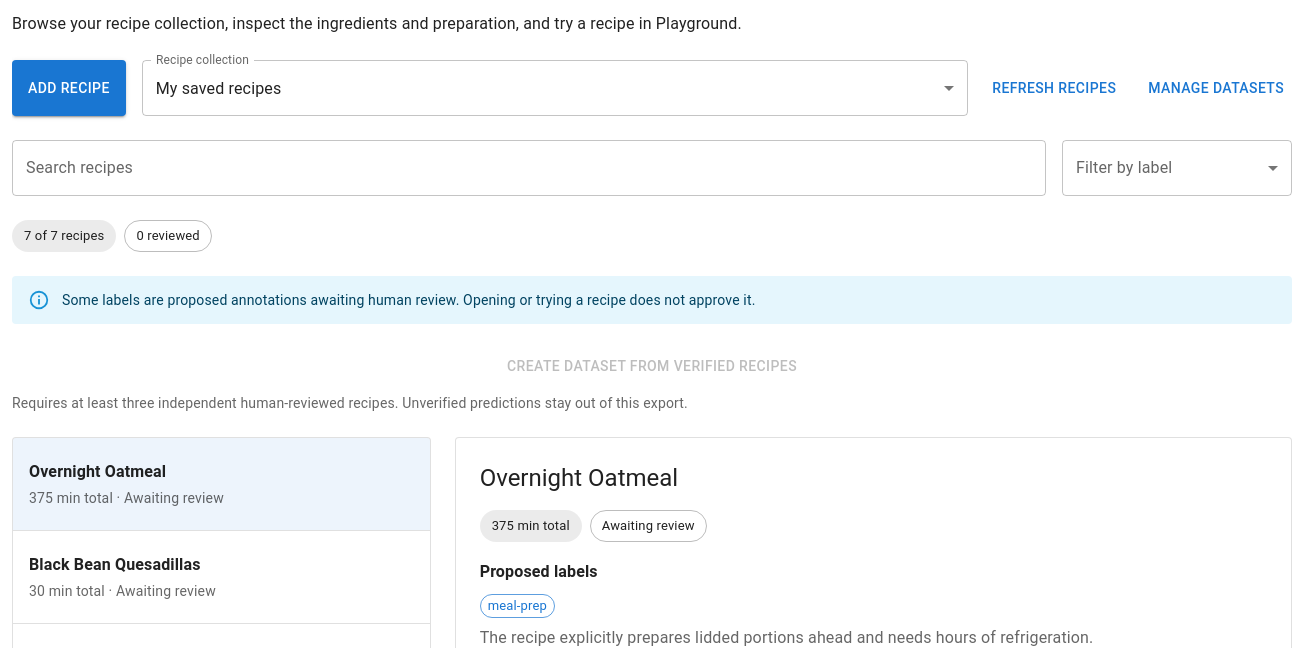
Test: browses saved recipes, searches ingredients and shows an explicit empty state
Expected: the text "7 of 7 recipes" is shown, x1=24 y1=228 x2=104 y2=243
Step 1. Type "ricotta" into the field labelled "Search recipes" → {"x": 529, "y": 168}, box x1=12 y1=140 x2=1046 y2=196
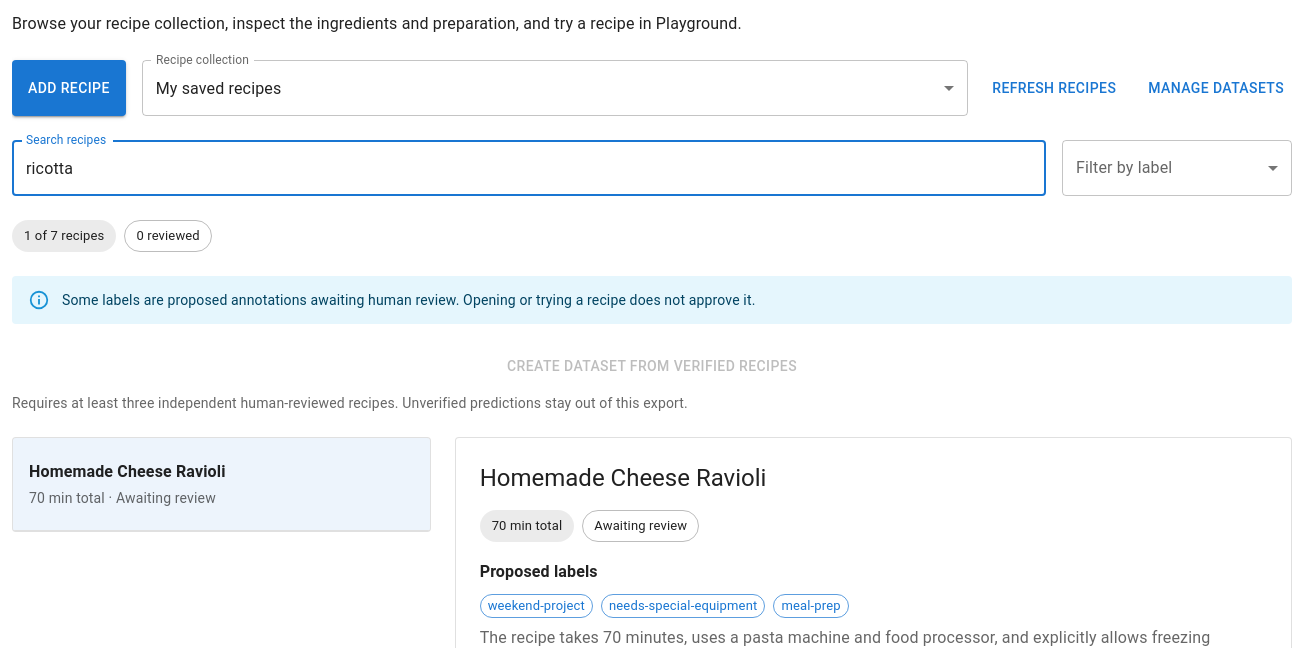
Now the text "1 of 7 recipes" is shown, box x1=24 y1=228 x2=104 y2=243
Now the heading "Homemade Cheese Ravioli" is shown, box x1=480 y1=464 x2=766 y2=492
Step 2. Replace the text in the field labelled "Search recipes" with "no such ingredient" → {"x": 529, "y": 168}, box x1=12 y1=140 x2=1046 y2=196
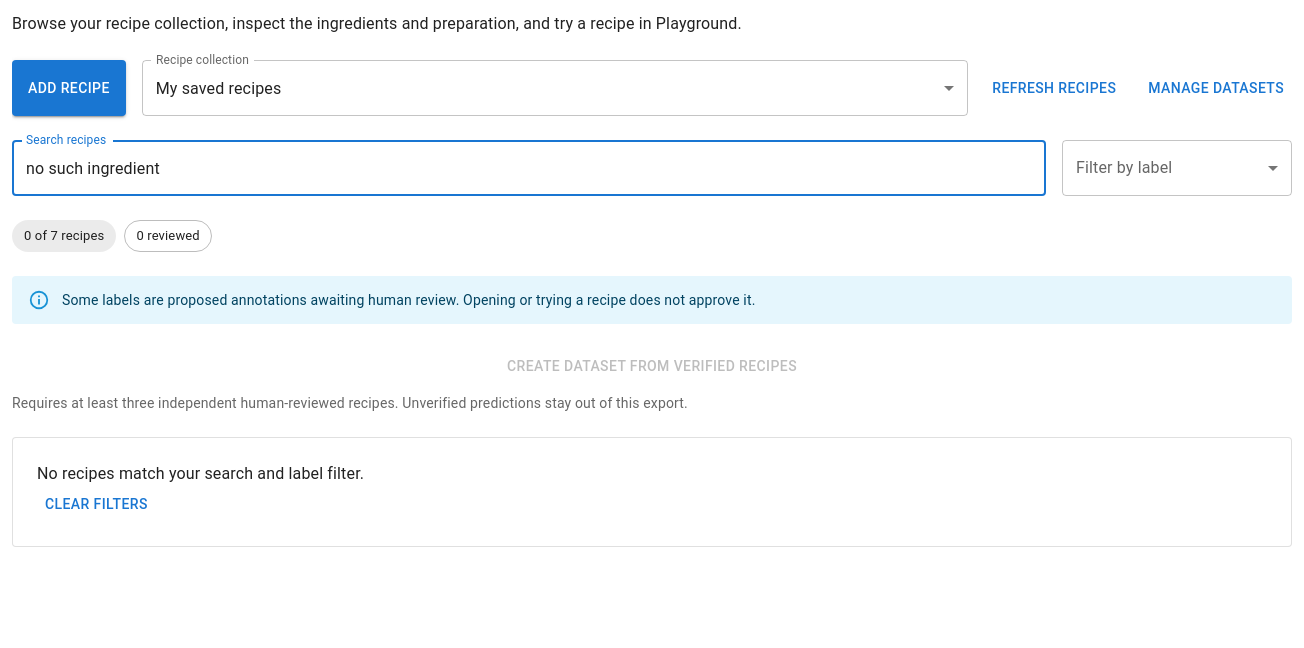
Now the text "No recipes match your search and label filter." is shown, box x1=37 y1=464 x2=364 y2=482
Step 3. Click the button "Clear filters" → {"x": 96, "y": 504}, box x1=37 y1=486 x2=156 y2=522
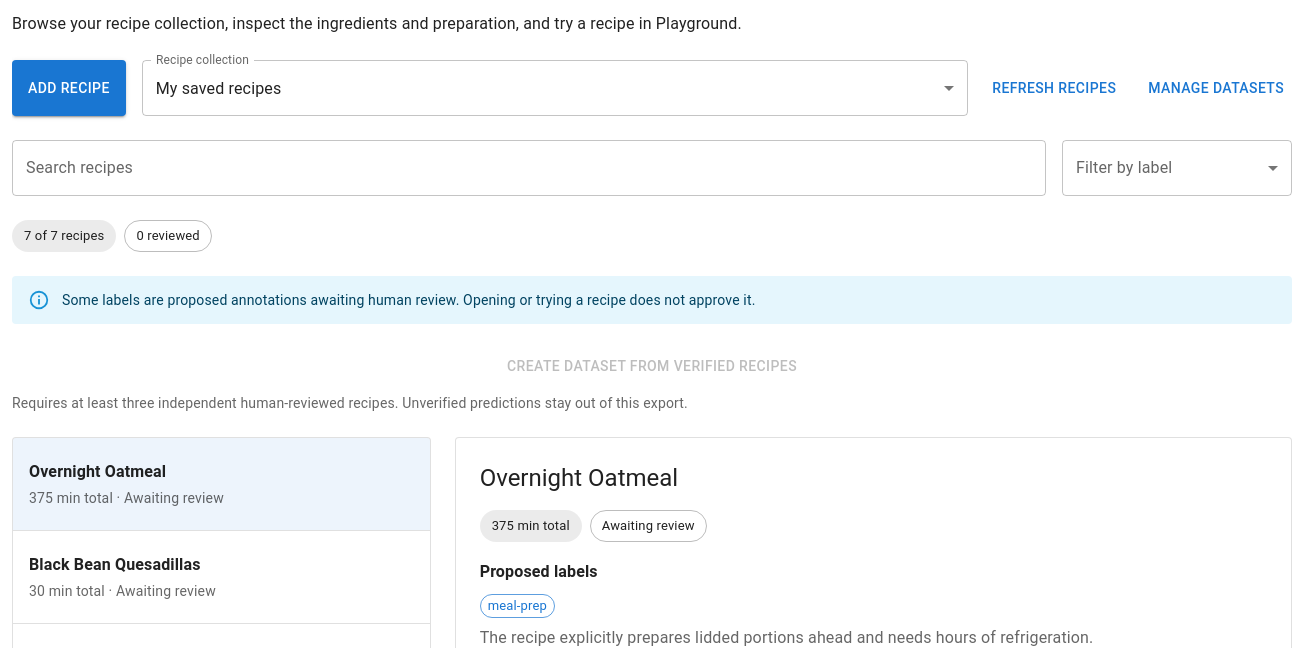
Now the text "7 of 7 recipes" is shown, box x1=24 y1=228 x2=104 y2=243
